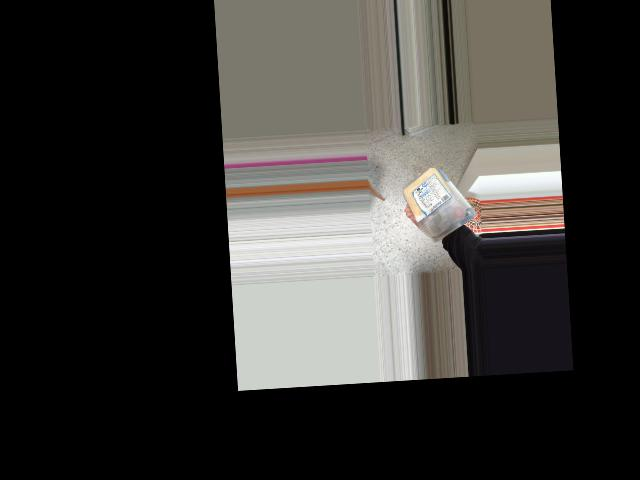cheese: (408, 165, 448, 232)
